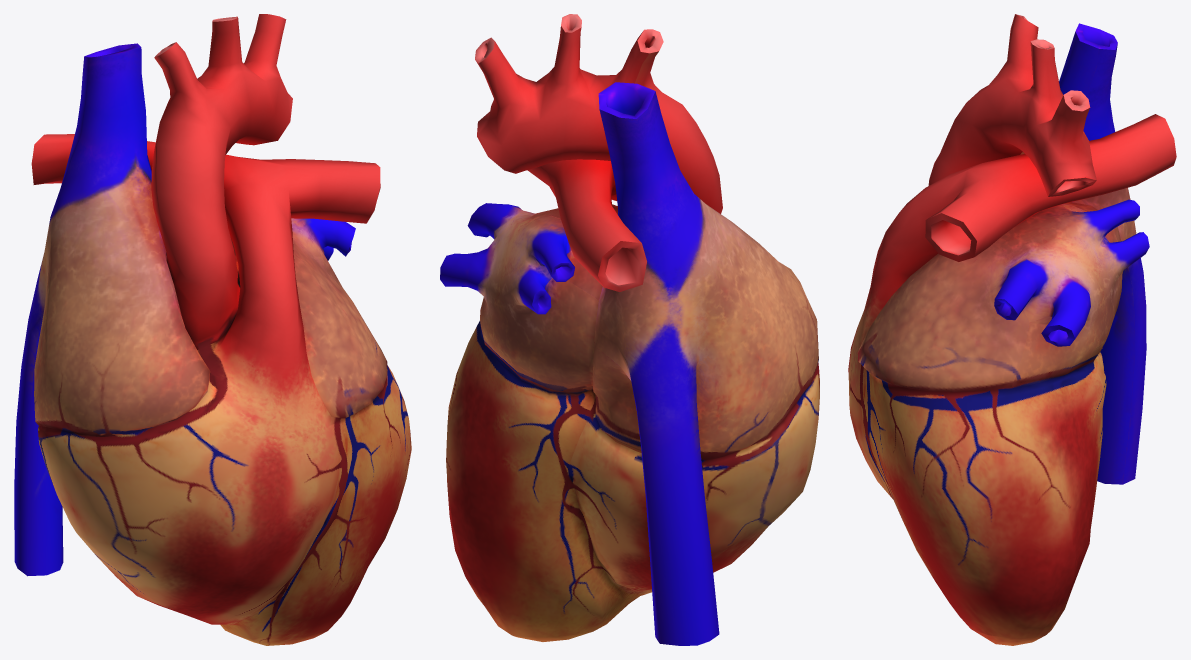
File: ARHeart_Geo.fbx
3 views of the same model, side by side, from view 1: azimuth 30°, elevation 25°; view 2: azimuth 150°, elevation 25°; view 3: azimuth 270°, elevation 25° (orthographic). The views are drawn at different scales.
Visible parts, largest first — view 1: Heart_ext, Heart_int; view 2: Heart_ext, Heart_int; view 3: Heart_ext, Heart_int.
Boxes of the visible parts, x1,y1,x2,y2 form: Heart_ext: (14, 14, 411, 645); Heart_int: (31, 16, 380, 255); Heart_ext: (440, 26, 819, 645); Heart_int: (475, 14, 663, 314); Heart_ext: (848, 14, 1176, 645); Heart_int: (925, 14, 1117, 346).
Size of the model in its own units: 837 by 1484 by 762.
